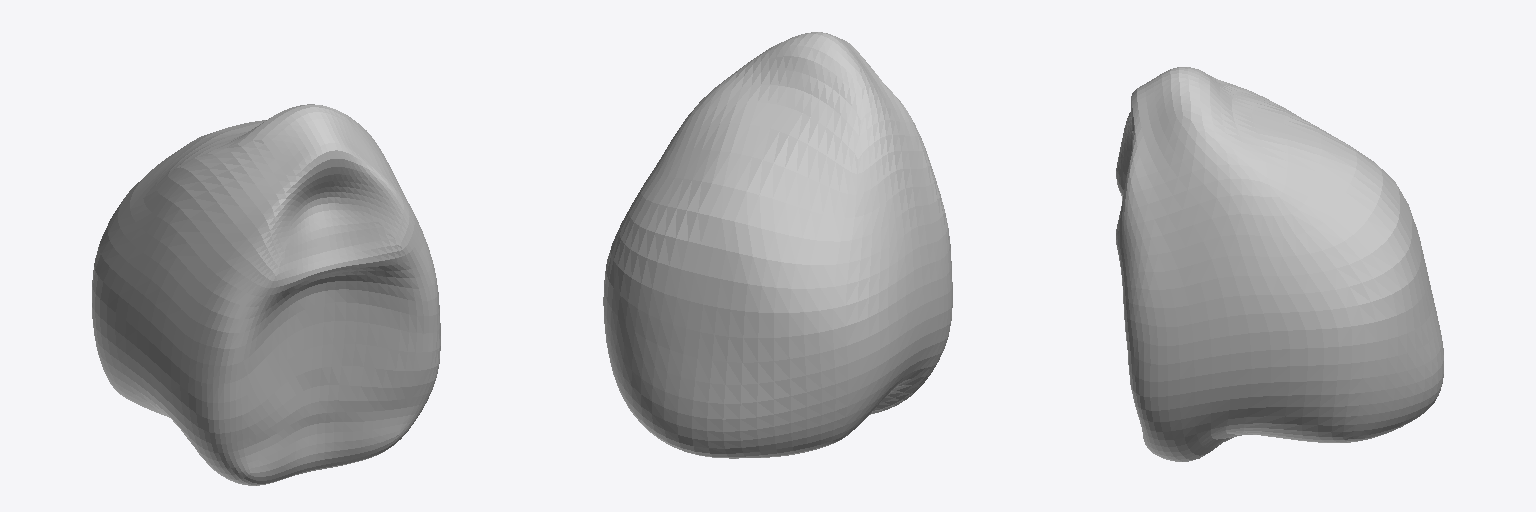
Rendered from vertabrae9.obj.
3 views of the same model, side by side, from view 1: azimuth 30°, elevation 25°; view 2: azimuth 150°, elevation 25°; view 3: azimuth 270°, elevation 25° (orthographic).
Parts seen in each view (by area): view 1: Cube.103_Cube.105; view 2: Cube.103_Cube.105; view 3: Cube.103_Cube.105.
Boxes of the visible parts, x1,y1,x2,y2 form: Cube.103_Cube.105: [92, 104, 440, 485]; Cube.103_Cube.105: [603, 32, 952, 458]; Cube.103_Cube.105: [1116, 67, 1443, 461].
Bounding box in the file's own units: 0.0753 × 0.098 × 0.0791.